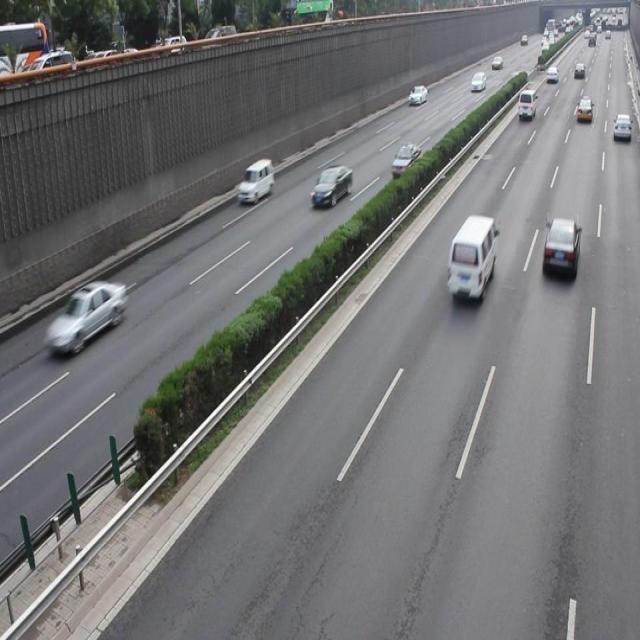car: (48, 277, 126, 352), (541, 217, 578, 280), (310, 163, 352, 207), (239, 158, 274, 202), (390, 142, 420, 177)
truck: (448, 214, 495, 302)
